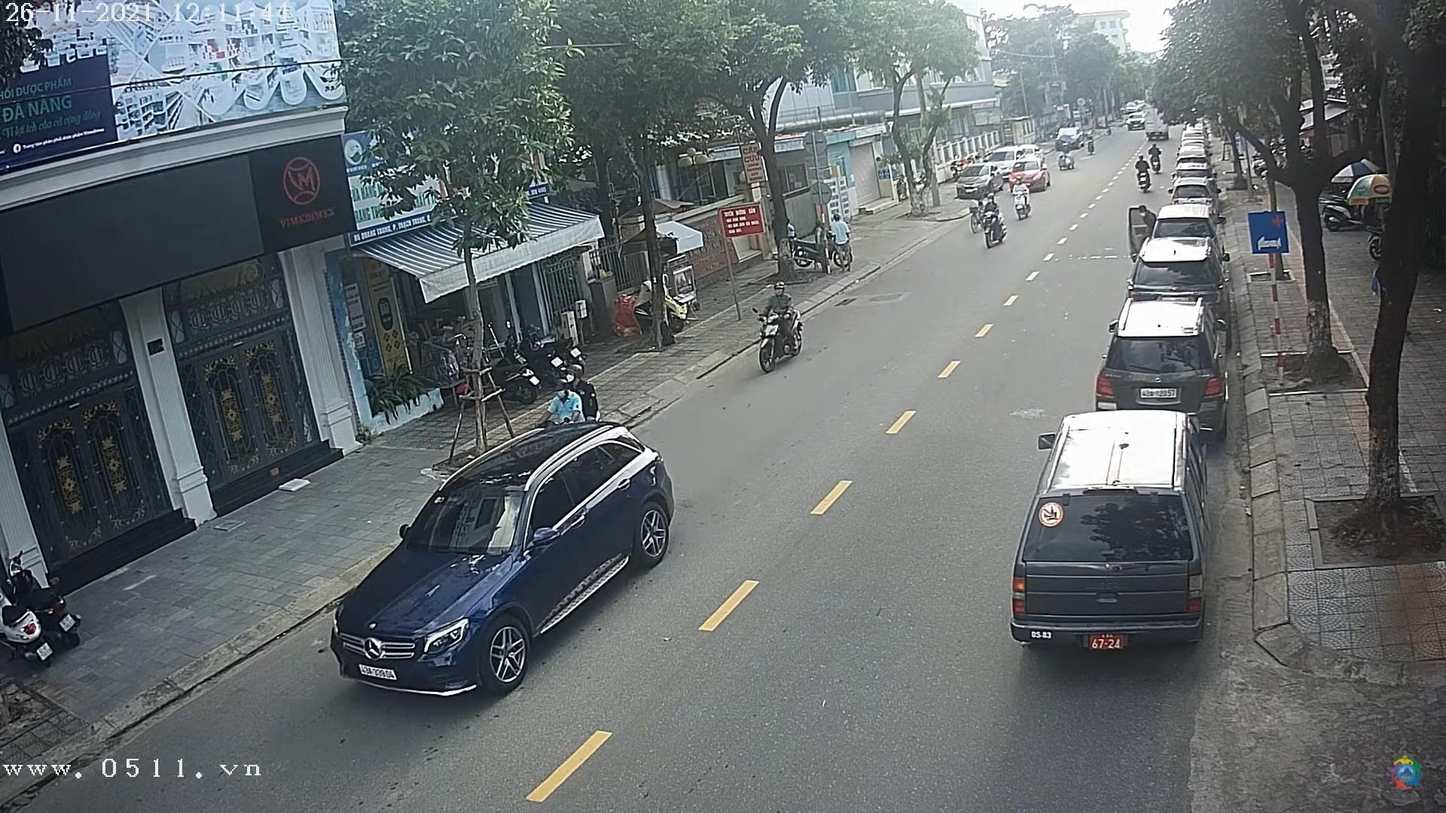car: (320, 418, 683, 703), (1012, 413, 1207, 651), (1095, 297, 1226, 418), (1132, 218, 1225, 293), (1168, 181, 1216, 208)
motorbike: (755, 307, 808, 380), (979, 209, 1010, 252)
